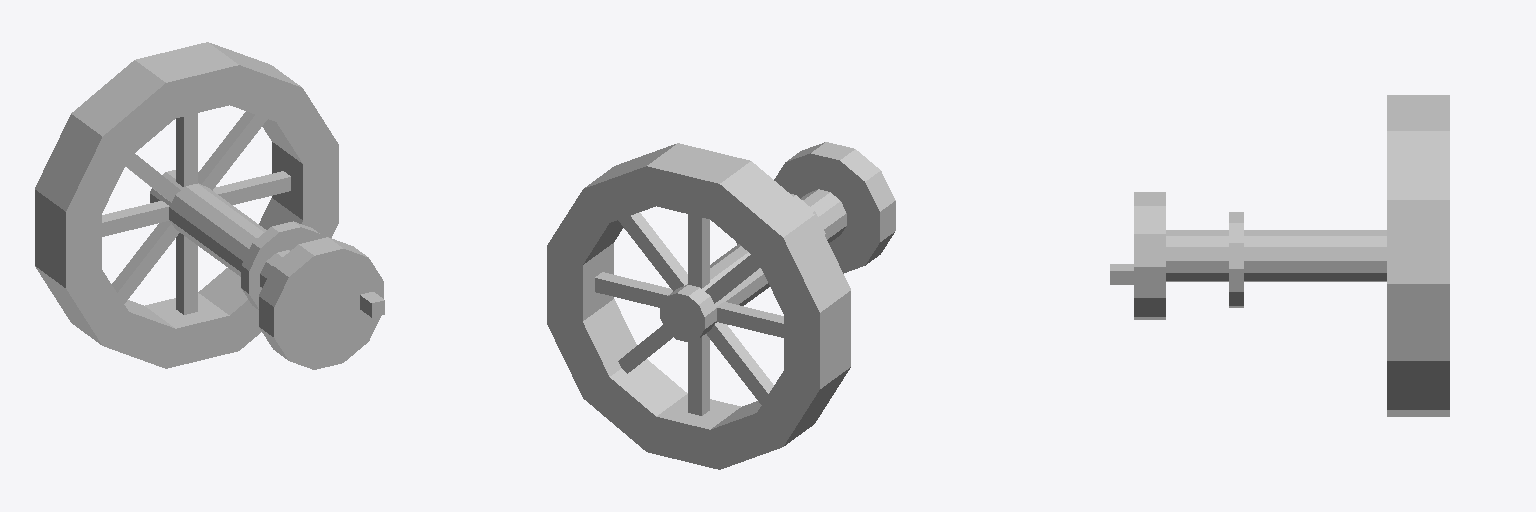
File: steam_engine_flywheele.obj
The picture shows the model from 3 angles: view 1: azimuth 30°, elevation 25°; view 2: azimuth 150°, elevation 25°; view 3: azimuth 270°, elevation 25°; orthographic projection.
Visible parts, largest first — view 1: tube, cylinder, cube; view 2: tube, cylinder, cube; view 3: tube, cylinder.
Boxes of the visible parts, <box> form: tube: <box>35,42,338,368</box>; cylinder: <box>150,170,383,369</box>; cube: <box>102,111,384,317</box>; tube: <box>547,143,850,469</box>; cylinder: <box>660,142,895,342</box>; cube: <box>595,212,783,415</box>; tube: <box>1387,95,1449,416</box>; cylinder: <box>1134,192,1386,319</box>.
Size of the model in its own units: 2.5 by 2.5 by 2.69.